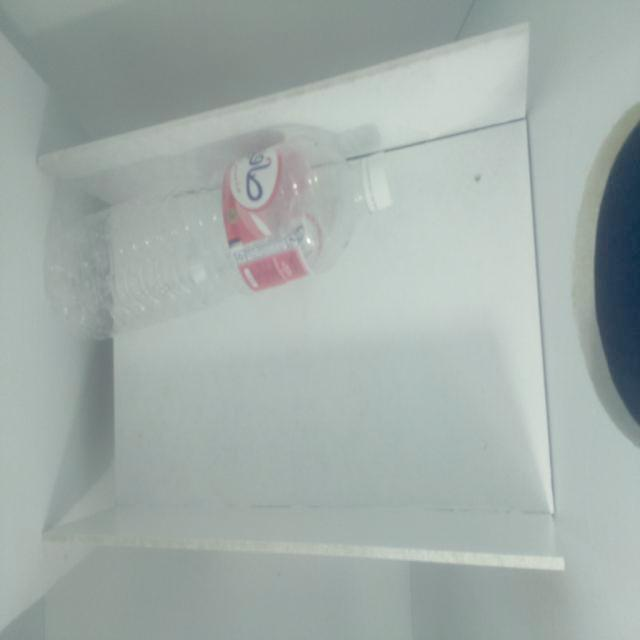bottle: (44, 140, 394, 342)
